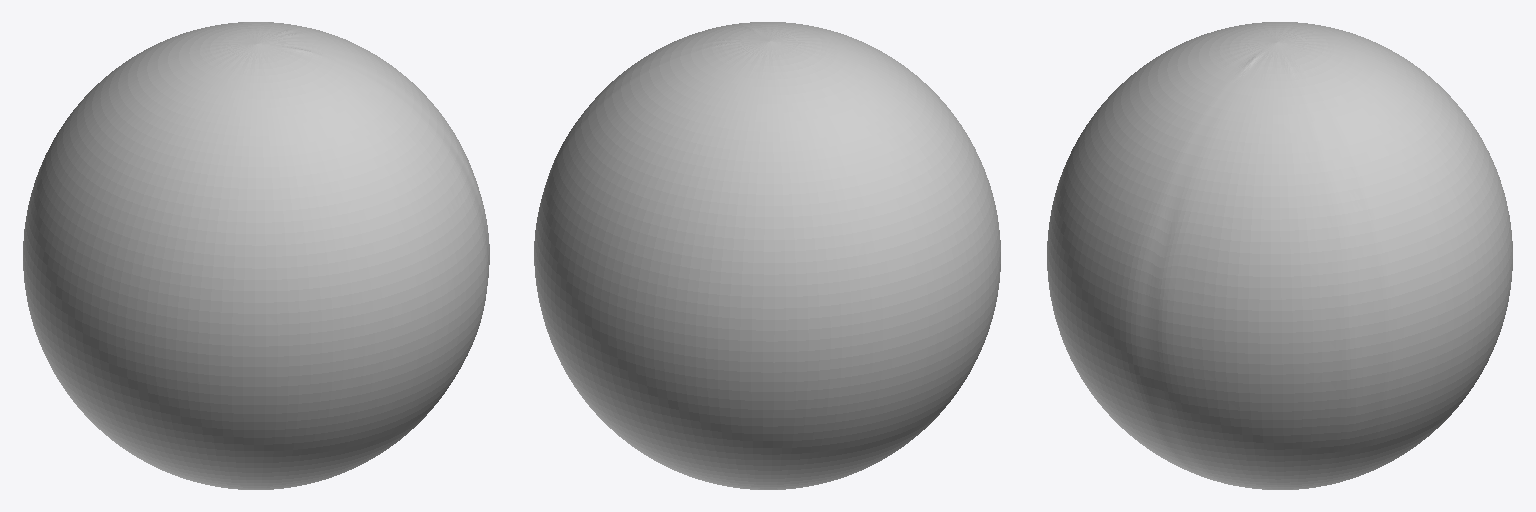
The model's file is bottom.obj.
3 views of the same model, side by side, from view 1: azimuth 30°, elevation 25°; view 2: azimuth 150°, elevation 25°; view 3: azimuth 270°, elevation 25° (orthographic).
Parts seen in each view (by area): view 1: Cuerpo_Esfera.001; view 2: Cuerpo_Esfera.001; view 3: Cuerpo_Esfera.001.
Boxes of the visible parts, x1,y1,x2,y2 form: Cuerpo_Esfera.001: [23, 22, 489, 489]; Cuerpo_Esfera.001: [534, 22, 1000, 489]; Cuerpo_Esfera.001: [1047, 22, 1512, 489].
Bounding box in the file's own units: 0.7152 × 0.7227 × 0.7151.